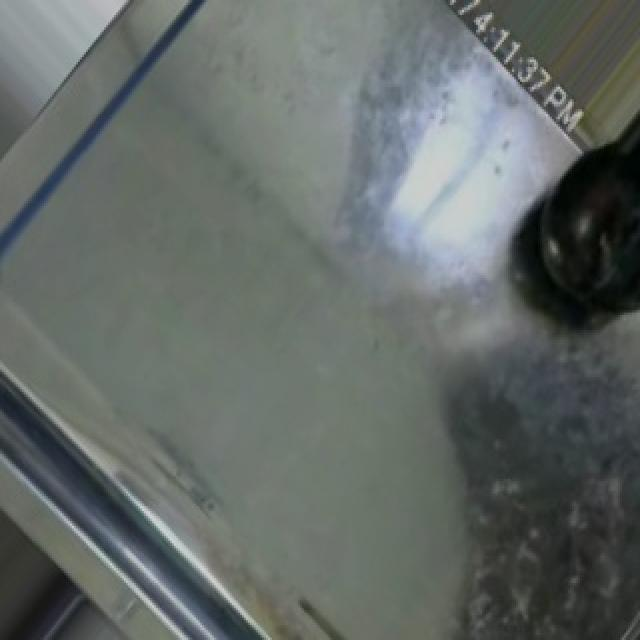Fruit: (518, 124, 640, 337)
